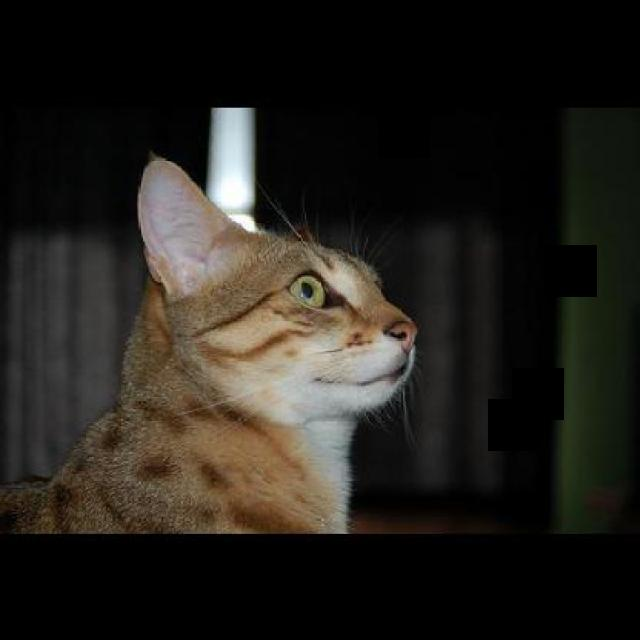unauthorized: (0, 149, 420, 534)
